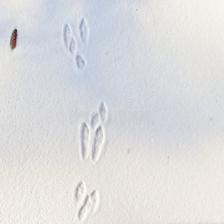rabbit: (77, 104, 114, 165), (60, 19, 92, 72), (73, 183, 100, 221)
